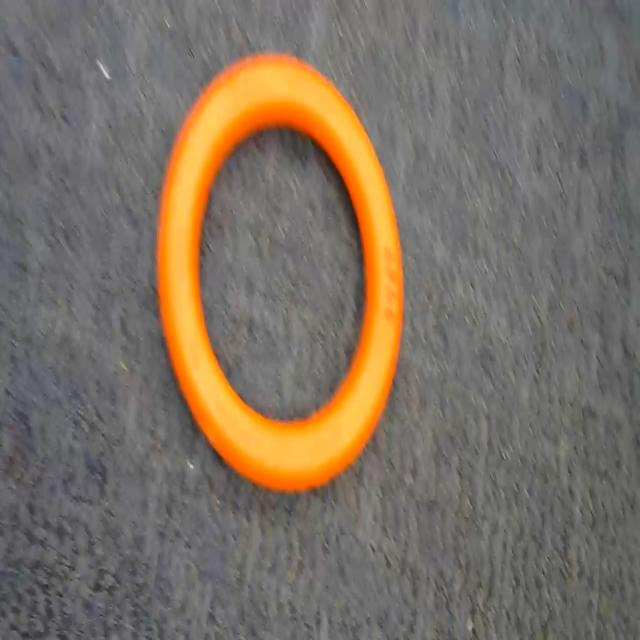note: (152, 36, 412, 507)
